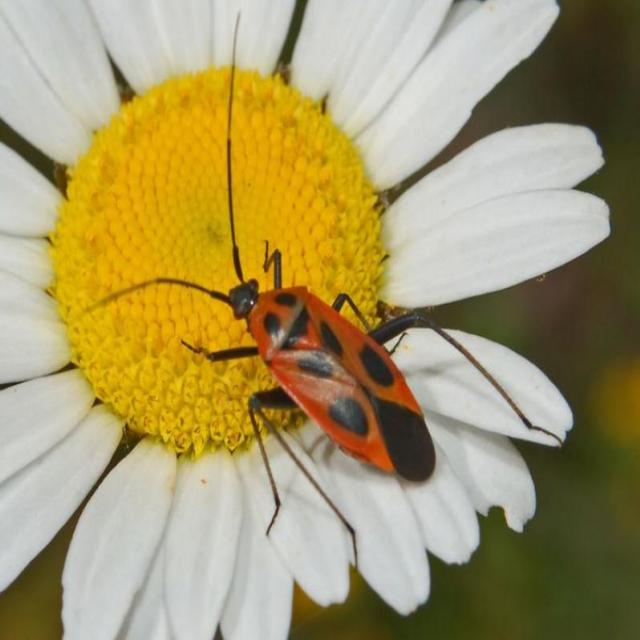Miridae-Adult-: (122, 13, 570, 565)
